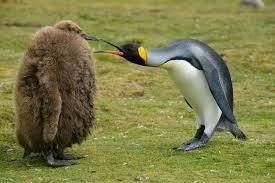king: (75, 24, 250, 153)
